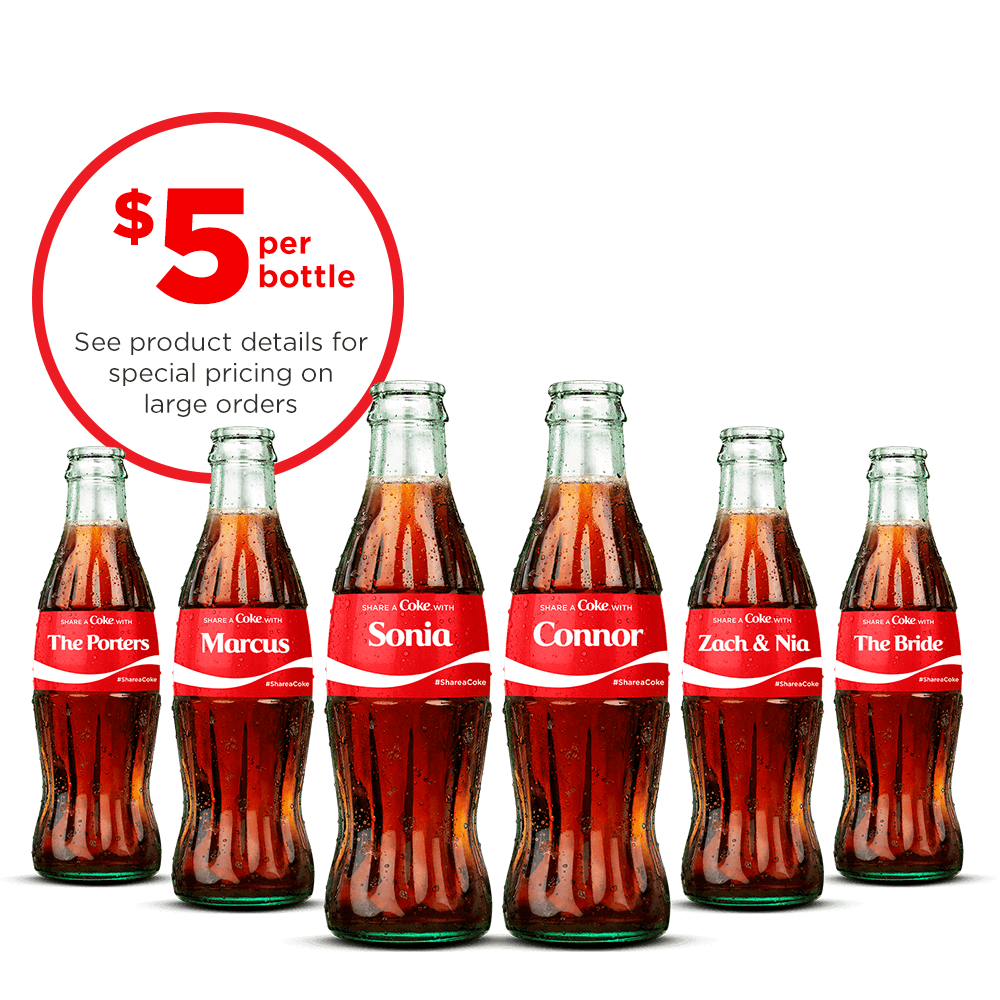Coca-Cola: (482, 361, 689, 951), (303, 372, 480, 958), (163, 420, 309, 935), (687, 420, 842, 887), (6, 438, 153, 880), (843, 422, 963, 891)
